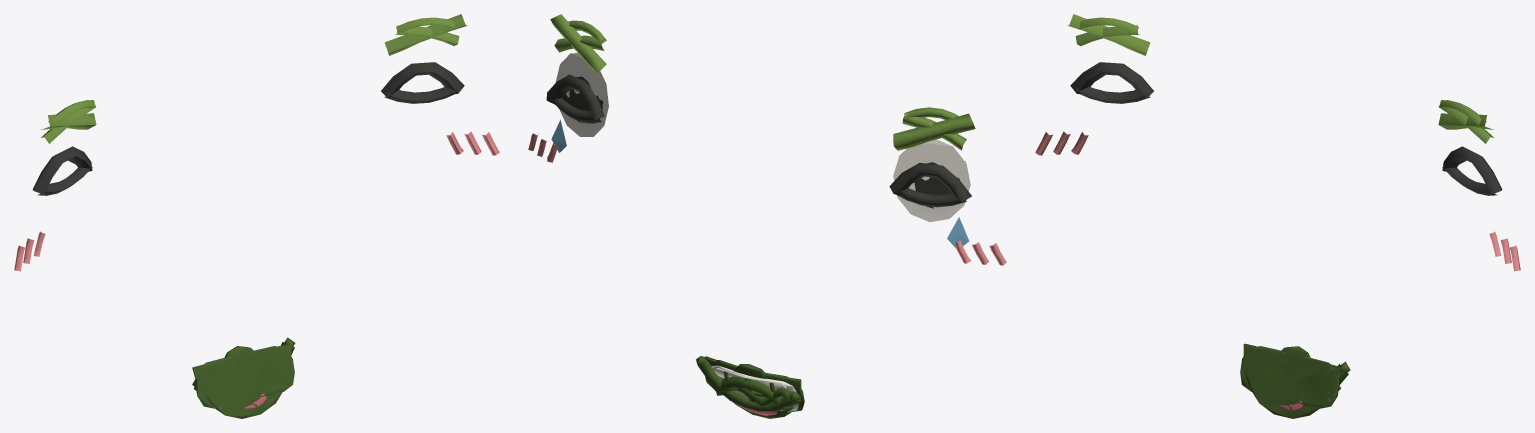
File: npc_face_kkotnim.glb
3 renders of one model, left to right at view 1: azimuth 30°, elevation 25°; view 2: azimuth 150°, elevation 25°; view 3: azimuth 330°, elevation 25°, orthographic.
Visible parts, largest first — view 1: mouth_x_laugh, mouth_x_grit, eyes_x_happy, eyes_x_angry, eyes_x_blink, eyes_x_shy, eyes_x_sad, eyes_x_surprised, mouth_x_o; view 2: eyes_x_surprised, eyes_x_angry, eyes_x_happy, eyes_x_sad, eyes_x_blink, mouth_x_grin, mouth_x_laugh, eyes_x_shy, mouth_x_grit, mouth_x_frown, mouth_x_wavy; view 3: mouth_x_laugh, mouth_x_grit, eyes_x_happy, eyes_x_angry, eyes_x_blink, eyes_x_shy, eyes_x_sad, eyes_x_surprised, mouth_x_o.
Part boxes in pixels (box(x1,y1,x2,y2)): mouth_x_laugh: box(192, 344, 291, 418); mouth_x_grit: box(195, 346, 294, 408); eyes_x_happy: box(32, 62, 464, 194); eyes_x_angry: box(41, 14, 467, 129); eyes_x_blink: box(37, 86, 458, 195); eyes_x_shy: box(14, 131, 499, 271); eyes_x_sad: box(41, 25, 459, 143); eyes_x_surprised: box(48, 17, 456, 126); mouth_x_o: box(224, 346, 262, 401); eyes_x_surprised: box(555, 20, 970, 222); eyes_x_angry: box(550, 14, 975, 161); eyes_x_happy: box(546, 74, 971, 202); eyes_x_sad: box(551, 35, 969, 248); eyes_x_blink: box(551, 98, 966, 207); mouth_x_grin: box(696, 356, 801, 411); mouth_x_laugh: box(705, 356, 801, 418); eyes_x_shy: box(528, 97, 1006, 265); mouth_x_grit: box(711, 360, 804, 411); mouth_x_frown: box(716, 376, 793, 411); mouth_x_wavy: box(705, 376, 801, 406); mouth_x_laugh: box(1243, 343, 1340, 418); mouth_x_grit: box(1240, 346, 1339, 408); eyes_x_happy: box(1070, 62, 1502, 194); eyes_x_angry: box(1067, 14, 1493, 129); eyes_x_blink: box(1076, 86, 1497, 195); eyes_x_shy: box(1035, 131, 1520, 271); eyes_x_sad: box(1075, 25, 1493, 143); eyes_x_surprised: box(1078, 17, 1486, 126); mouth_x_o: box(1280, 346, 1310, 404).
Bounding box in the file's own units: 0.492 × 0.346 × 0.0448.
